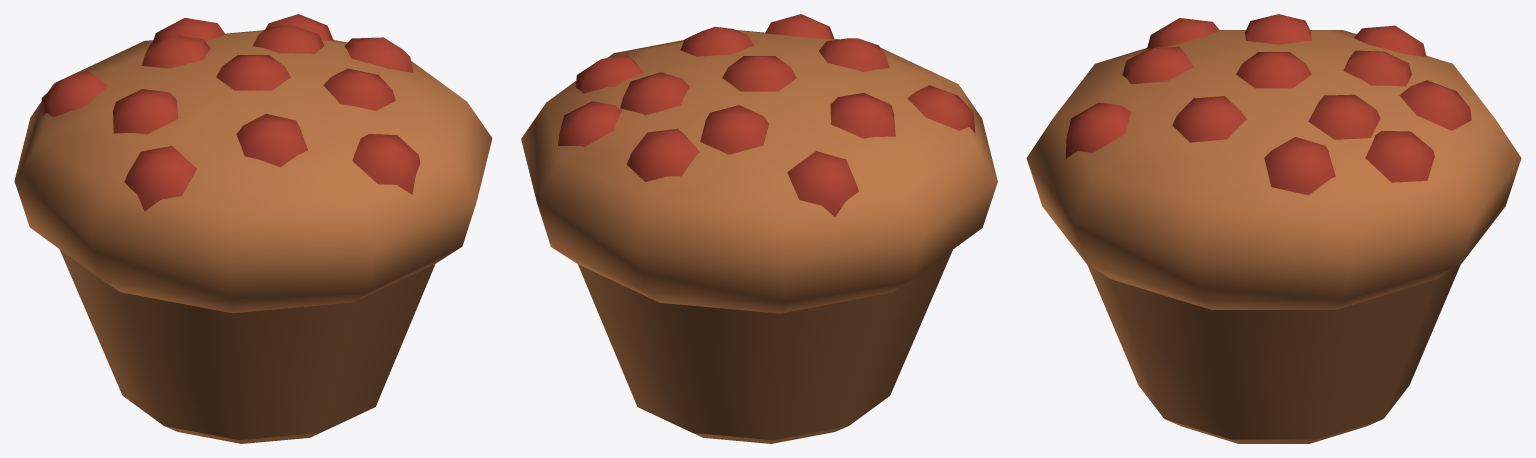
File: Muffin_01.fbx
The picture shows the model from 3 angles, left to right: view 1: azimuth 30°, elevation 25°; view 2: azimuth 150°, elevation 25°; view 3: azimuth 270°, elevation 25°; orthographic projection.
Visible parts, largest first — view 1: Muffin_01; view 2: Muffin_01; view 3: Muffin_01.
Part boxes in pixels (<box>): Muffin_01: <box>14,14,492,443</box>; Muffin_01: <box>521,14,997,443</box>; Muffin_01: <box>1026,14,1521,443</box>.
Size of the model in its own units: 0.0987 by 0.0795 by 0.1038.
